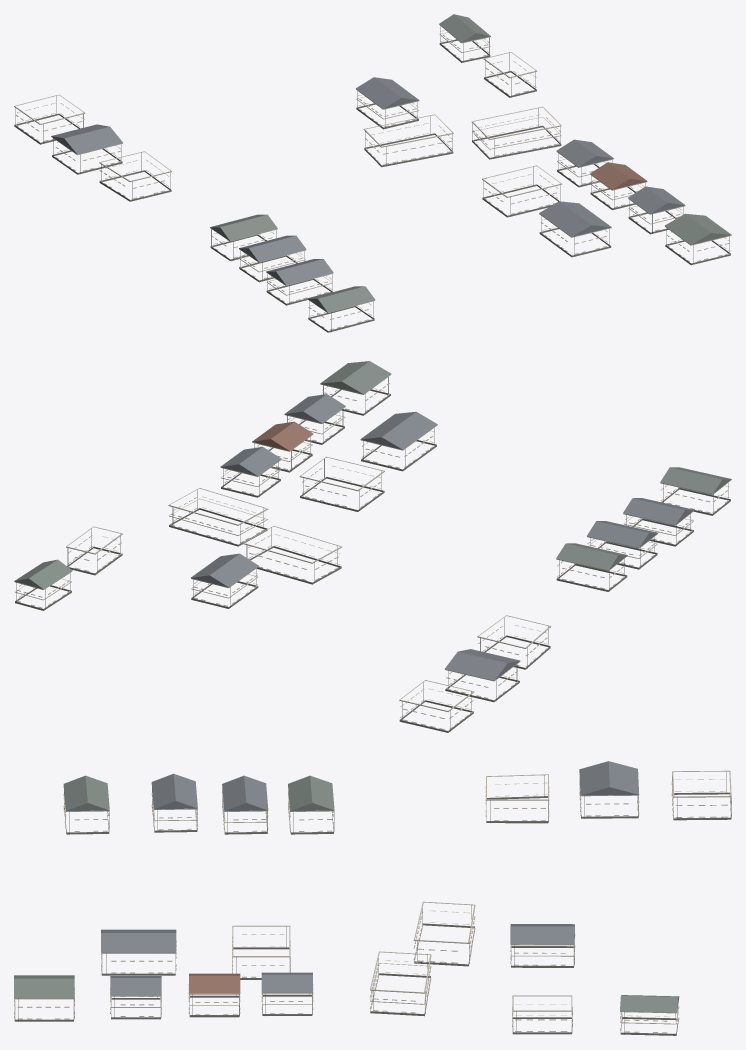
The model's file is district_-1_1.glb.
3 views of the same model, one above another, from view 1: azimuth 30°, elevation 25°; view 2: azimuth 150°, elevation 25°; view 3: azimuth 270°, elevation 25° (orthographic). The views are drawn at different scales.
Visible parts, largest first — view 1: RoofMetal, MasonryTrim, MetalDetails; view 2: RoofMetal, MasonryTrim, MetalDetails; view 3: RoofMetal, MasonryTrim, MetalDetails.
Part boxes in pixels (x1,y1,x2,y2): RoofMetal: (51, 14, 731, 312); MasonryTrim: (14, 24, 731, 332); MetalDetails: (15, 26, 729, 331); RoofMetal: (14, 361, 731, 680); MasonryTrim: (14, 374, 731, 732); MetalDetails: (16, 377, 728, 731); RoofMetal: (14, 761, 679, 1012); MasonryTrim: (14, 770, 731, 1035); MetalDetails: (18, 772, 731, 1034).
Bounding box in the file's own units: 167 × 10.1 × 208.
